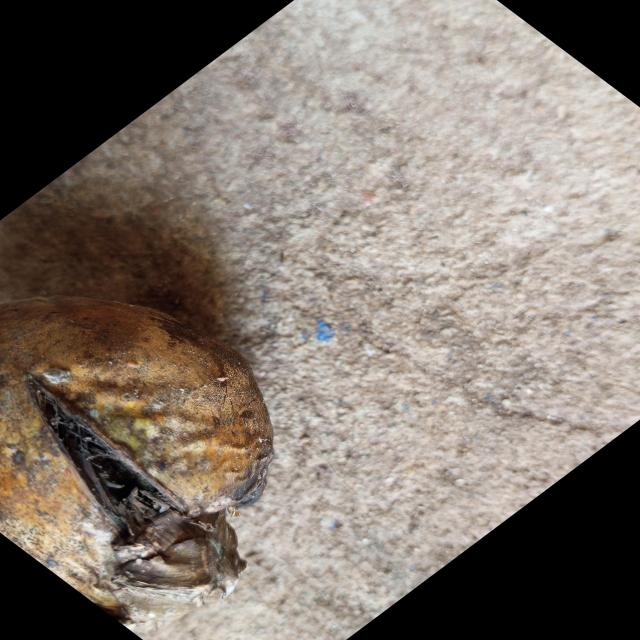damaged: (0, 297, 273, 624)
